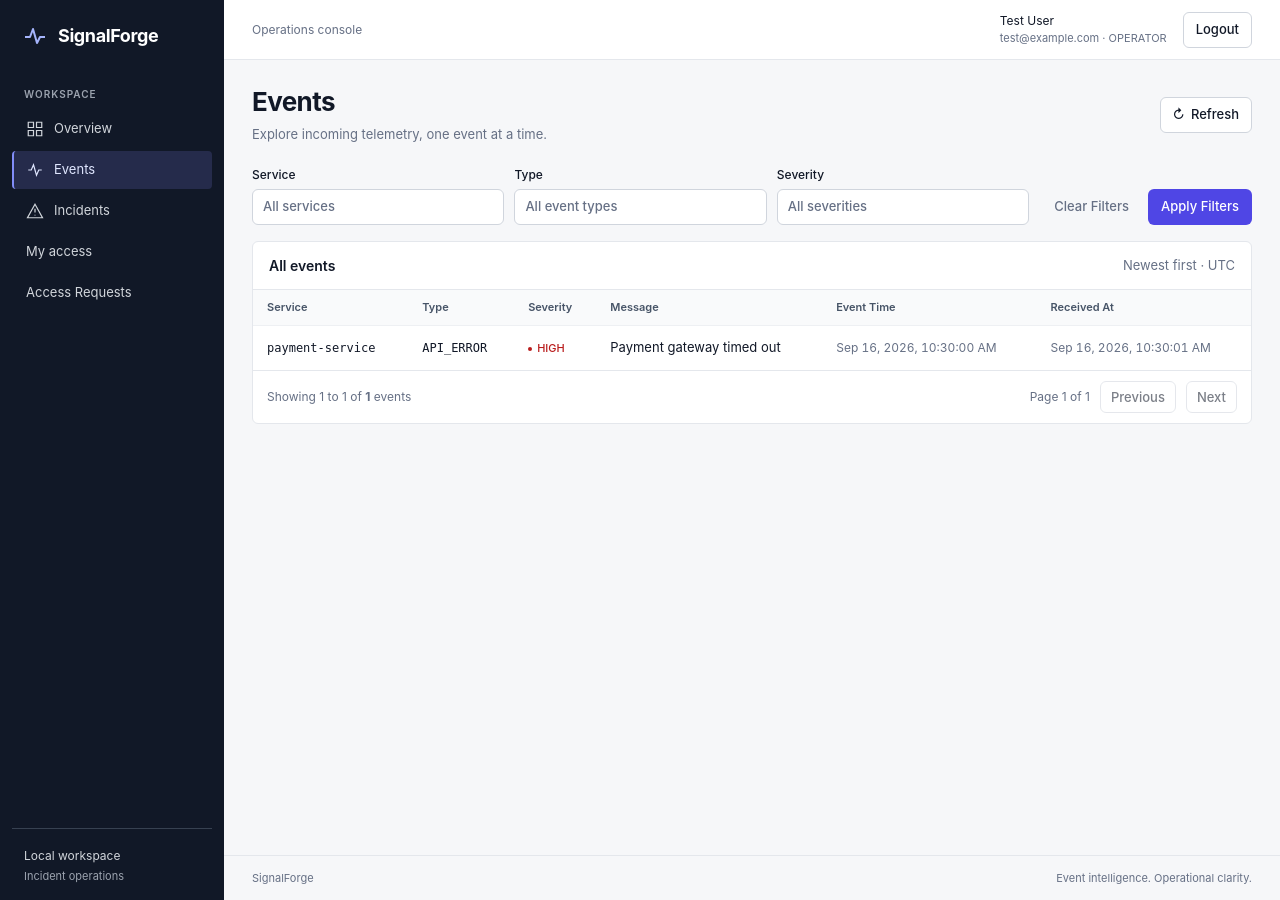
Scenario: Events › applies safely encoded filters only on submit and clears them
The image size is (1280, 900).
Check: the text "Payment gateway timed out" is shown, box [610,338,808,358]
Step 1. Type "payments & billing" into the field labelled "Service" → (378, 207), box [252,189,504,225]
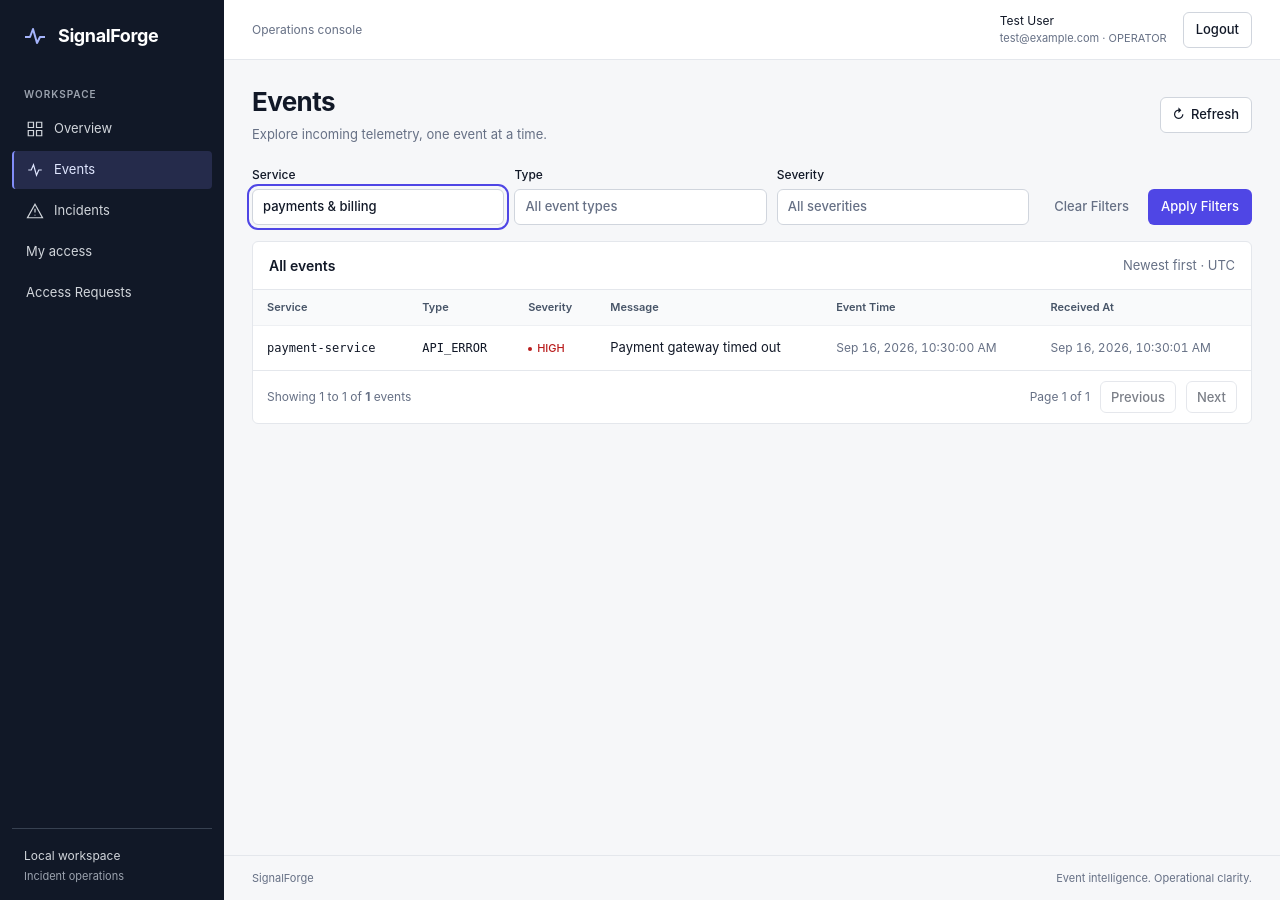
Step 2. Type "API/ERROR" into the field labelled "Type" → (641, 207), box [514,189,767,225]
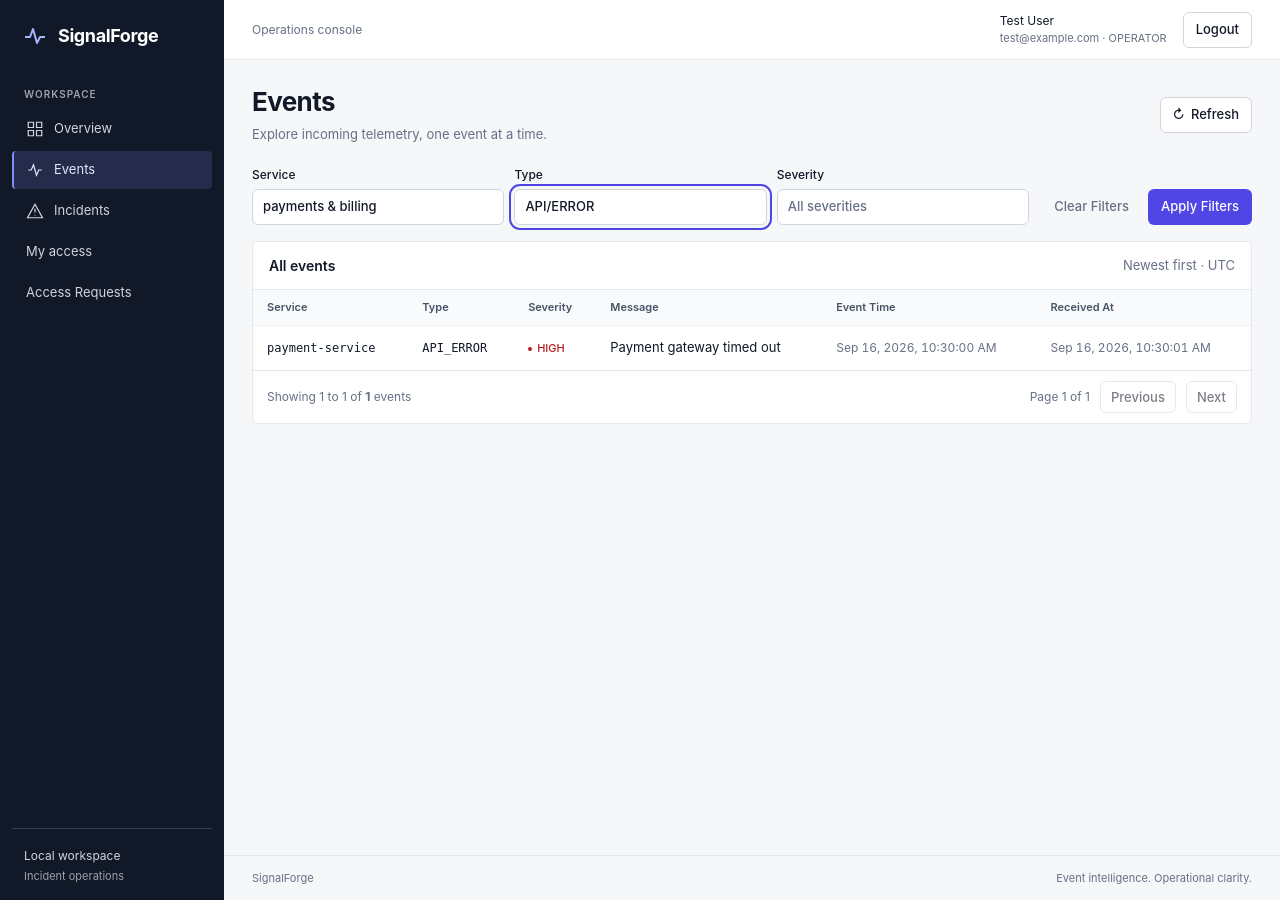
Step 3. Type "CUSTOM" into the field labelled "Severity" → (903, 207), box [777,189,1029,225]
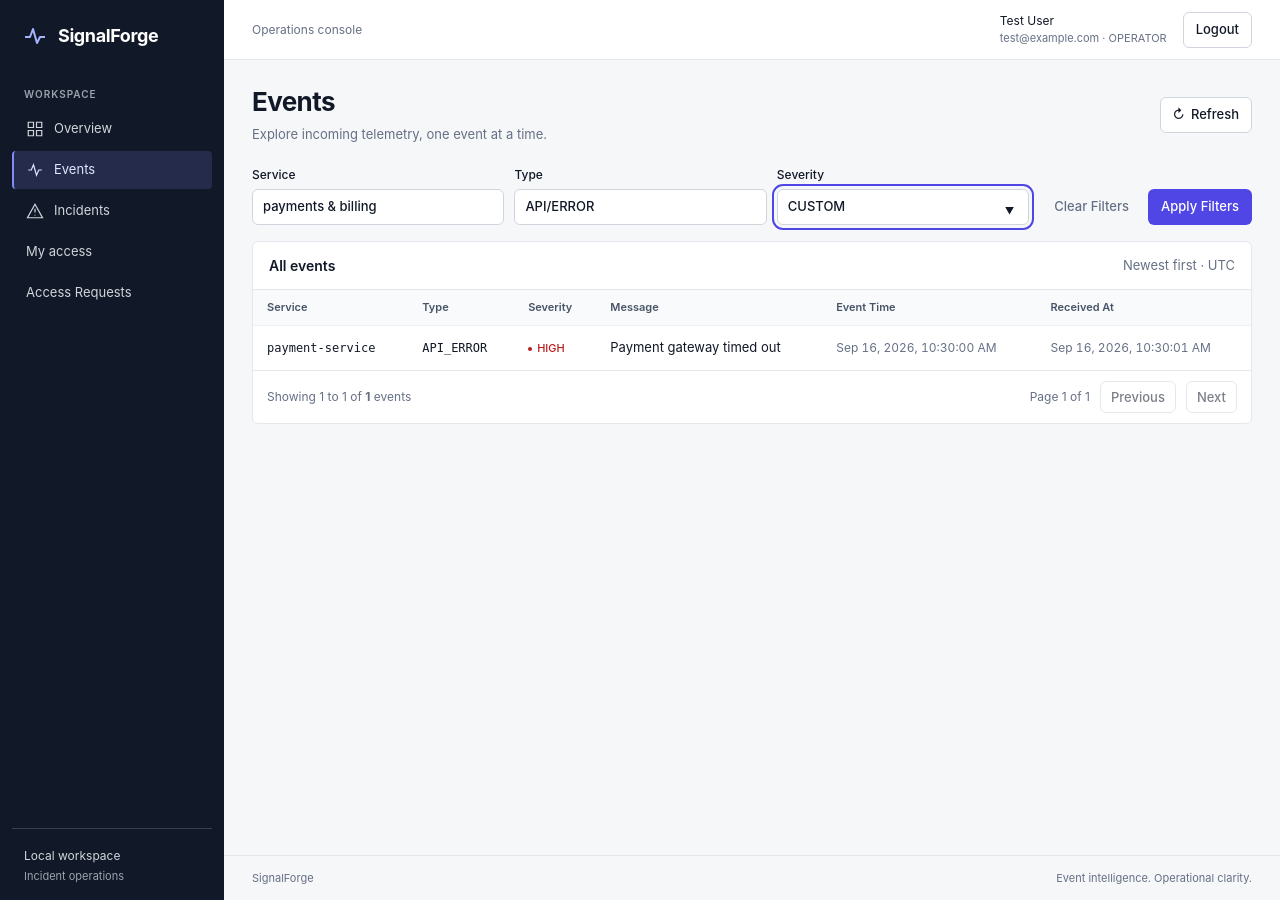
Step 4. Click the button "Apply Filters" → (1200, 207), box [1148,189,1252,225]
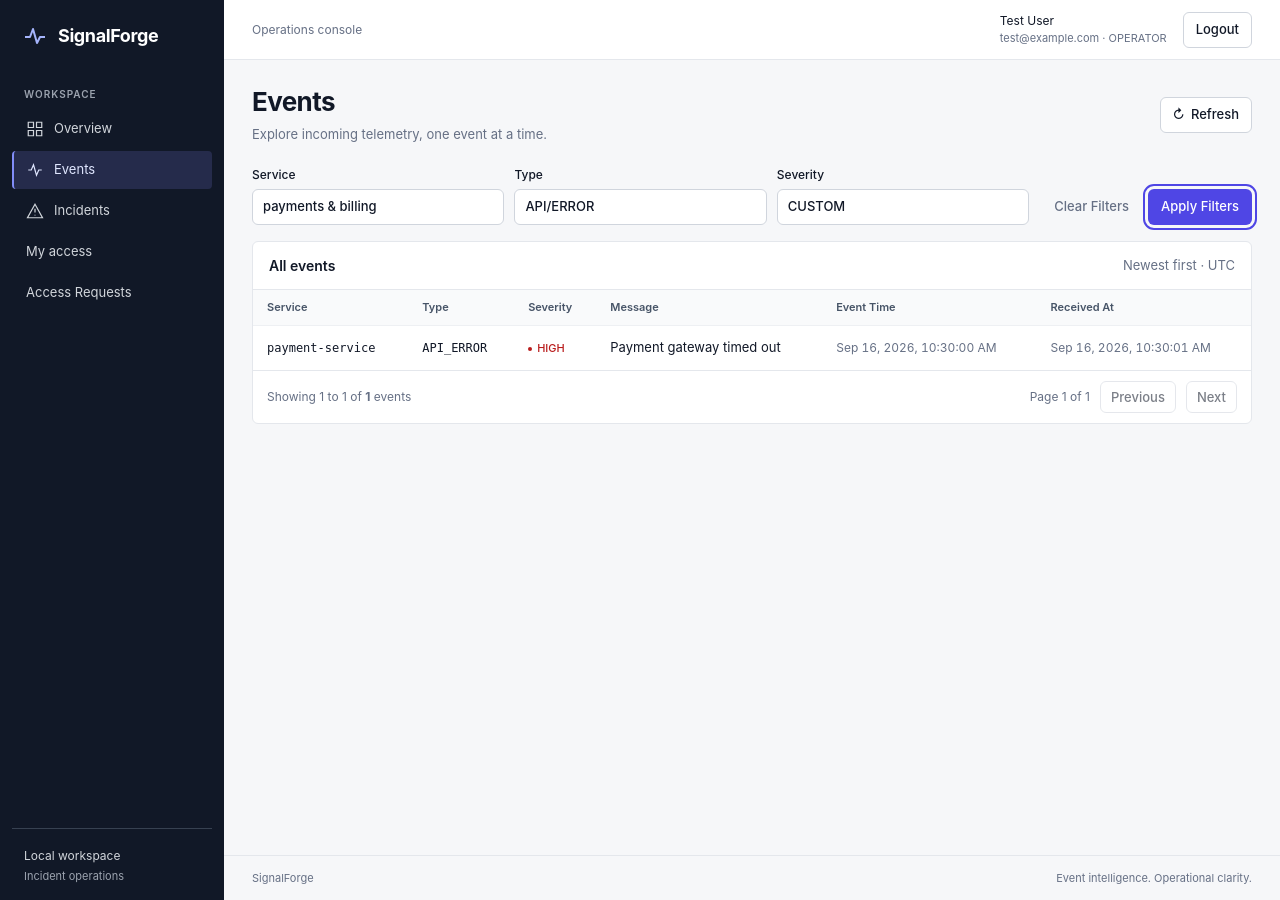
Step 5. Click the button "Clear Filters" → (1092, 207), box [1041,189,1142,225]
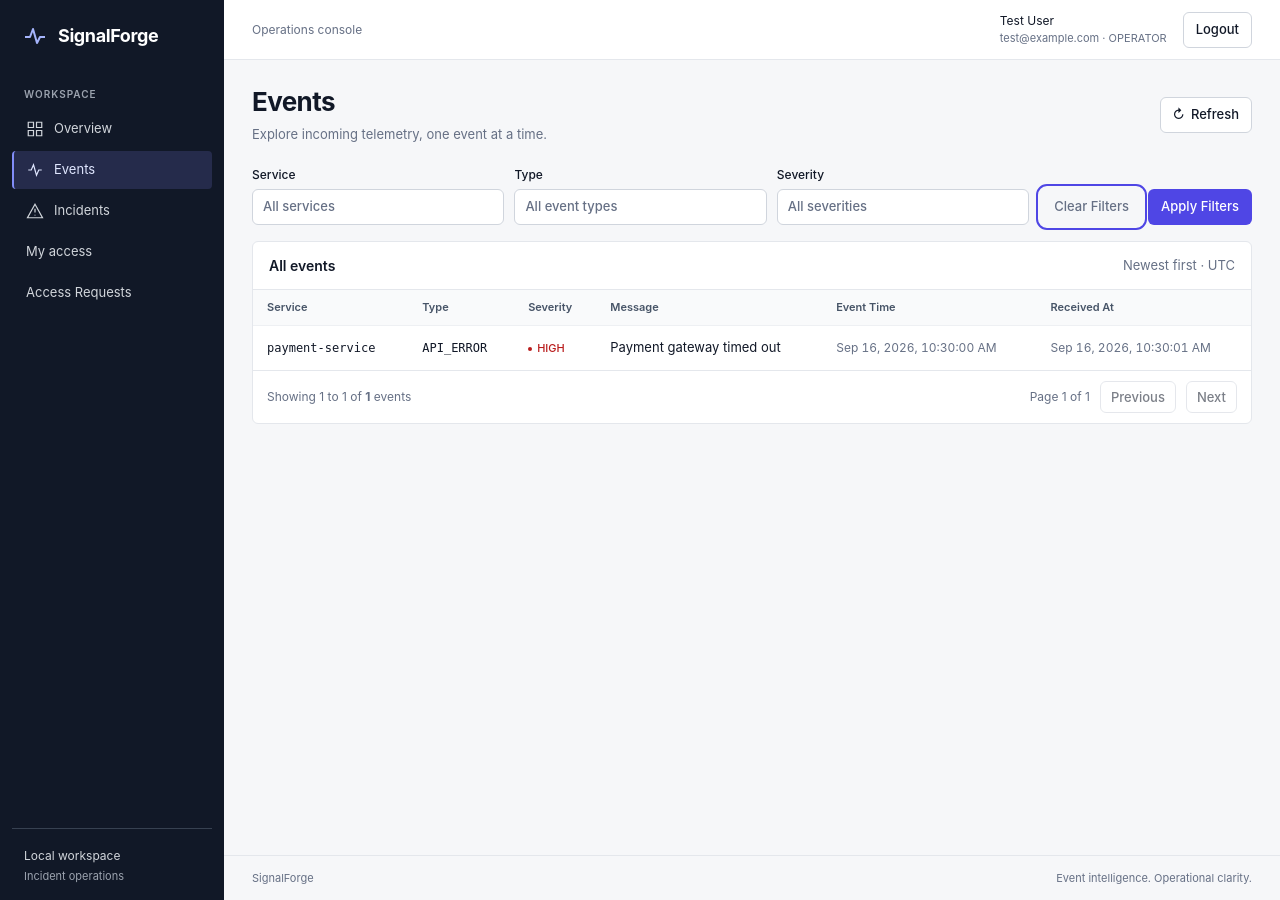
Check: the field labelled "Service" is empty, box [252,189,504,225]
